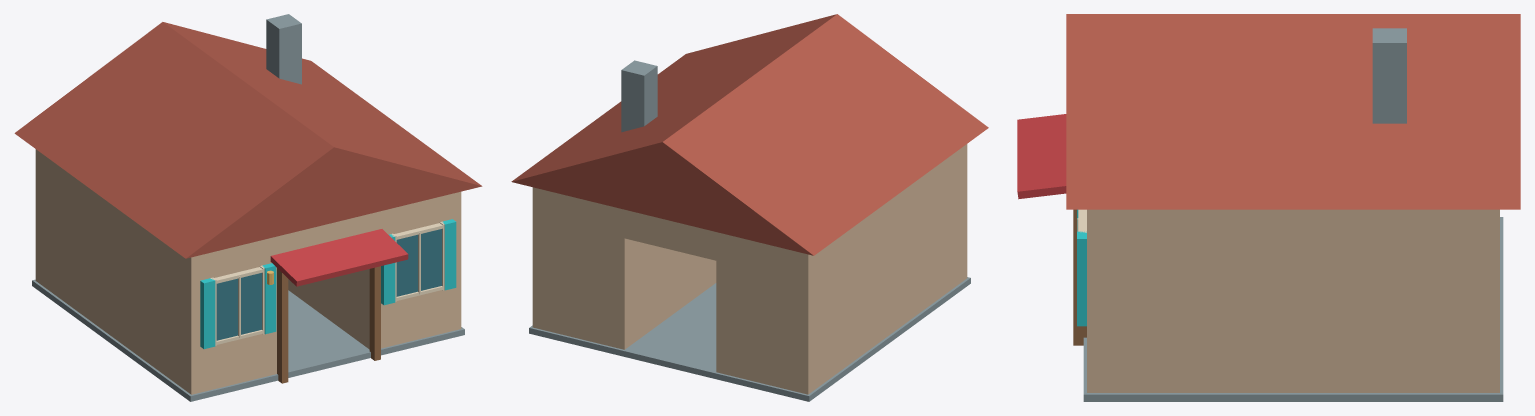
The model's file is House.fbx.
The picture shows the model from 3 angles, left to right: view 1: azimuth 30°, elevation 25°; view 2: azimuth 150°, elevation 25°; view 3: azimuth 270°, elevation 25°; orthographic projection. The views are drawn at different scales.
Parts seen in each view (by area): view 1: House_RenderMesh; view 2: House_RenderMesh; view 3: House_RenderMesh.
Boxes of the visible parts, <box> form: House_RenderMesh: <box>14,14,482,401</box>; House_RenderMesh: <box>511,14,988,401</box>; House_RenderMesh: <box>1017,14,1520,401</box>.
Bounding box in the file's own units: 6.6 × 5.2 × 7.31.
